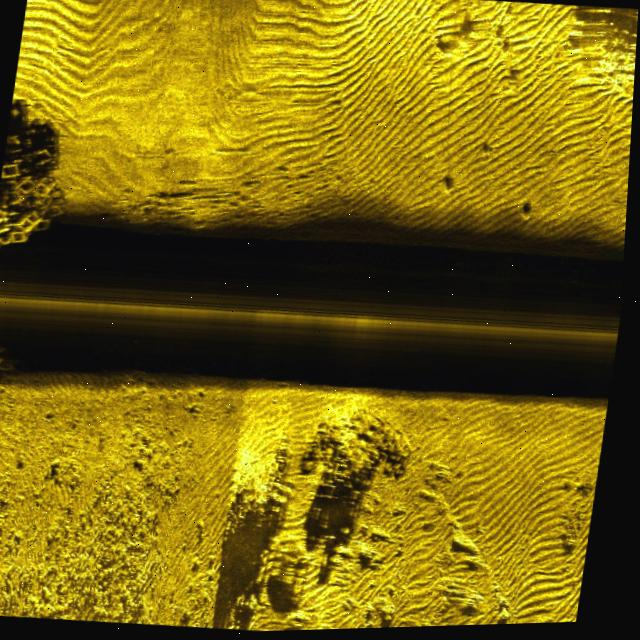artificial reef: (0, 104, 87, 262), (0, 333, 32, 437)
